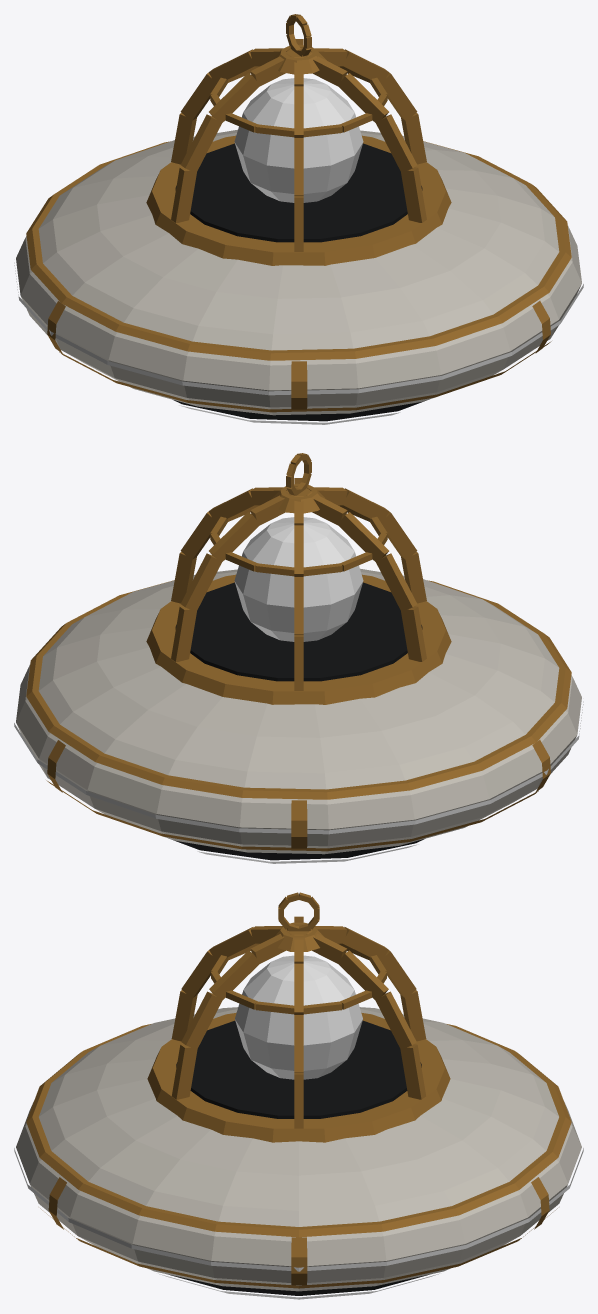
The model's file is engineer.glb.
The picture shows the model from 3 angles, top to bottom: view 1: azimuth 30°, elevation 25°; view 2: azimuth 150°, elevation 25°; view 3: azimuth 270°, elevation 25°; orthographic projection.
Parts seen in each view (by area): view 1: body; view 2: body; view 3: body.
Part boxes in pixels (x1=…): body: x1=14, y1=14, x2=583, y2=424; body: x1=14, y1=453, x2=583, y2=863; body: x1=14, y1=892, x2=583, y2=1299.
Bounding box in the file's own units: 6.04 × 4.11 × 6.04.
